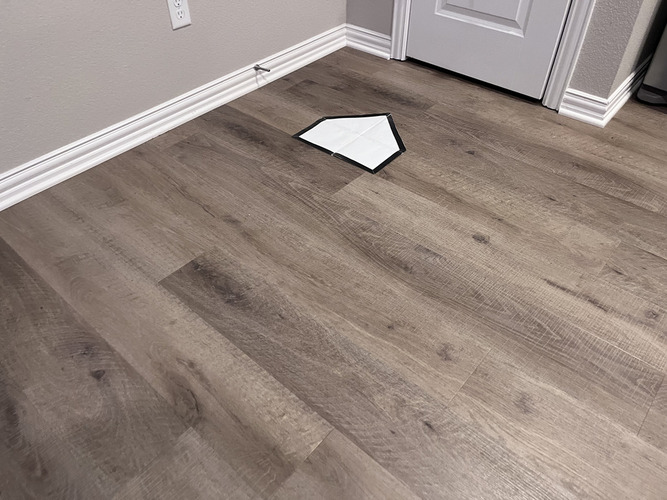homeplate: (292, 111, 406, 174)
